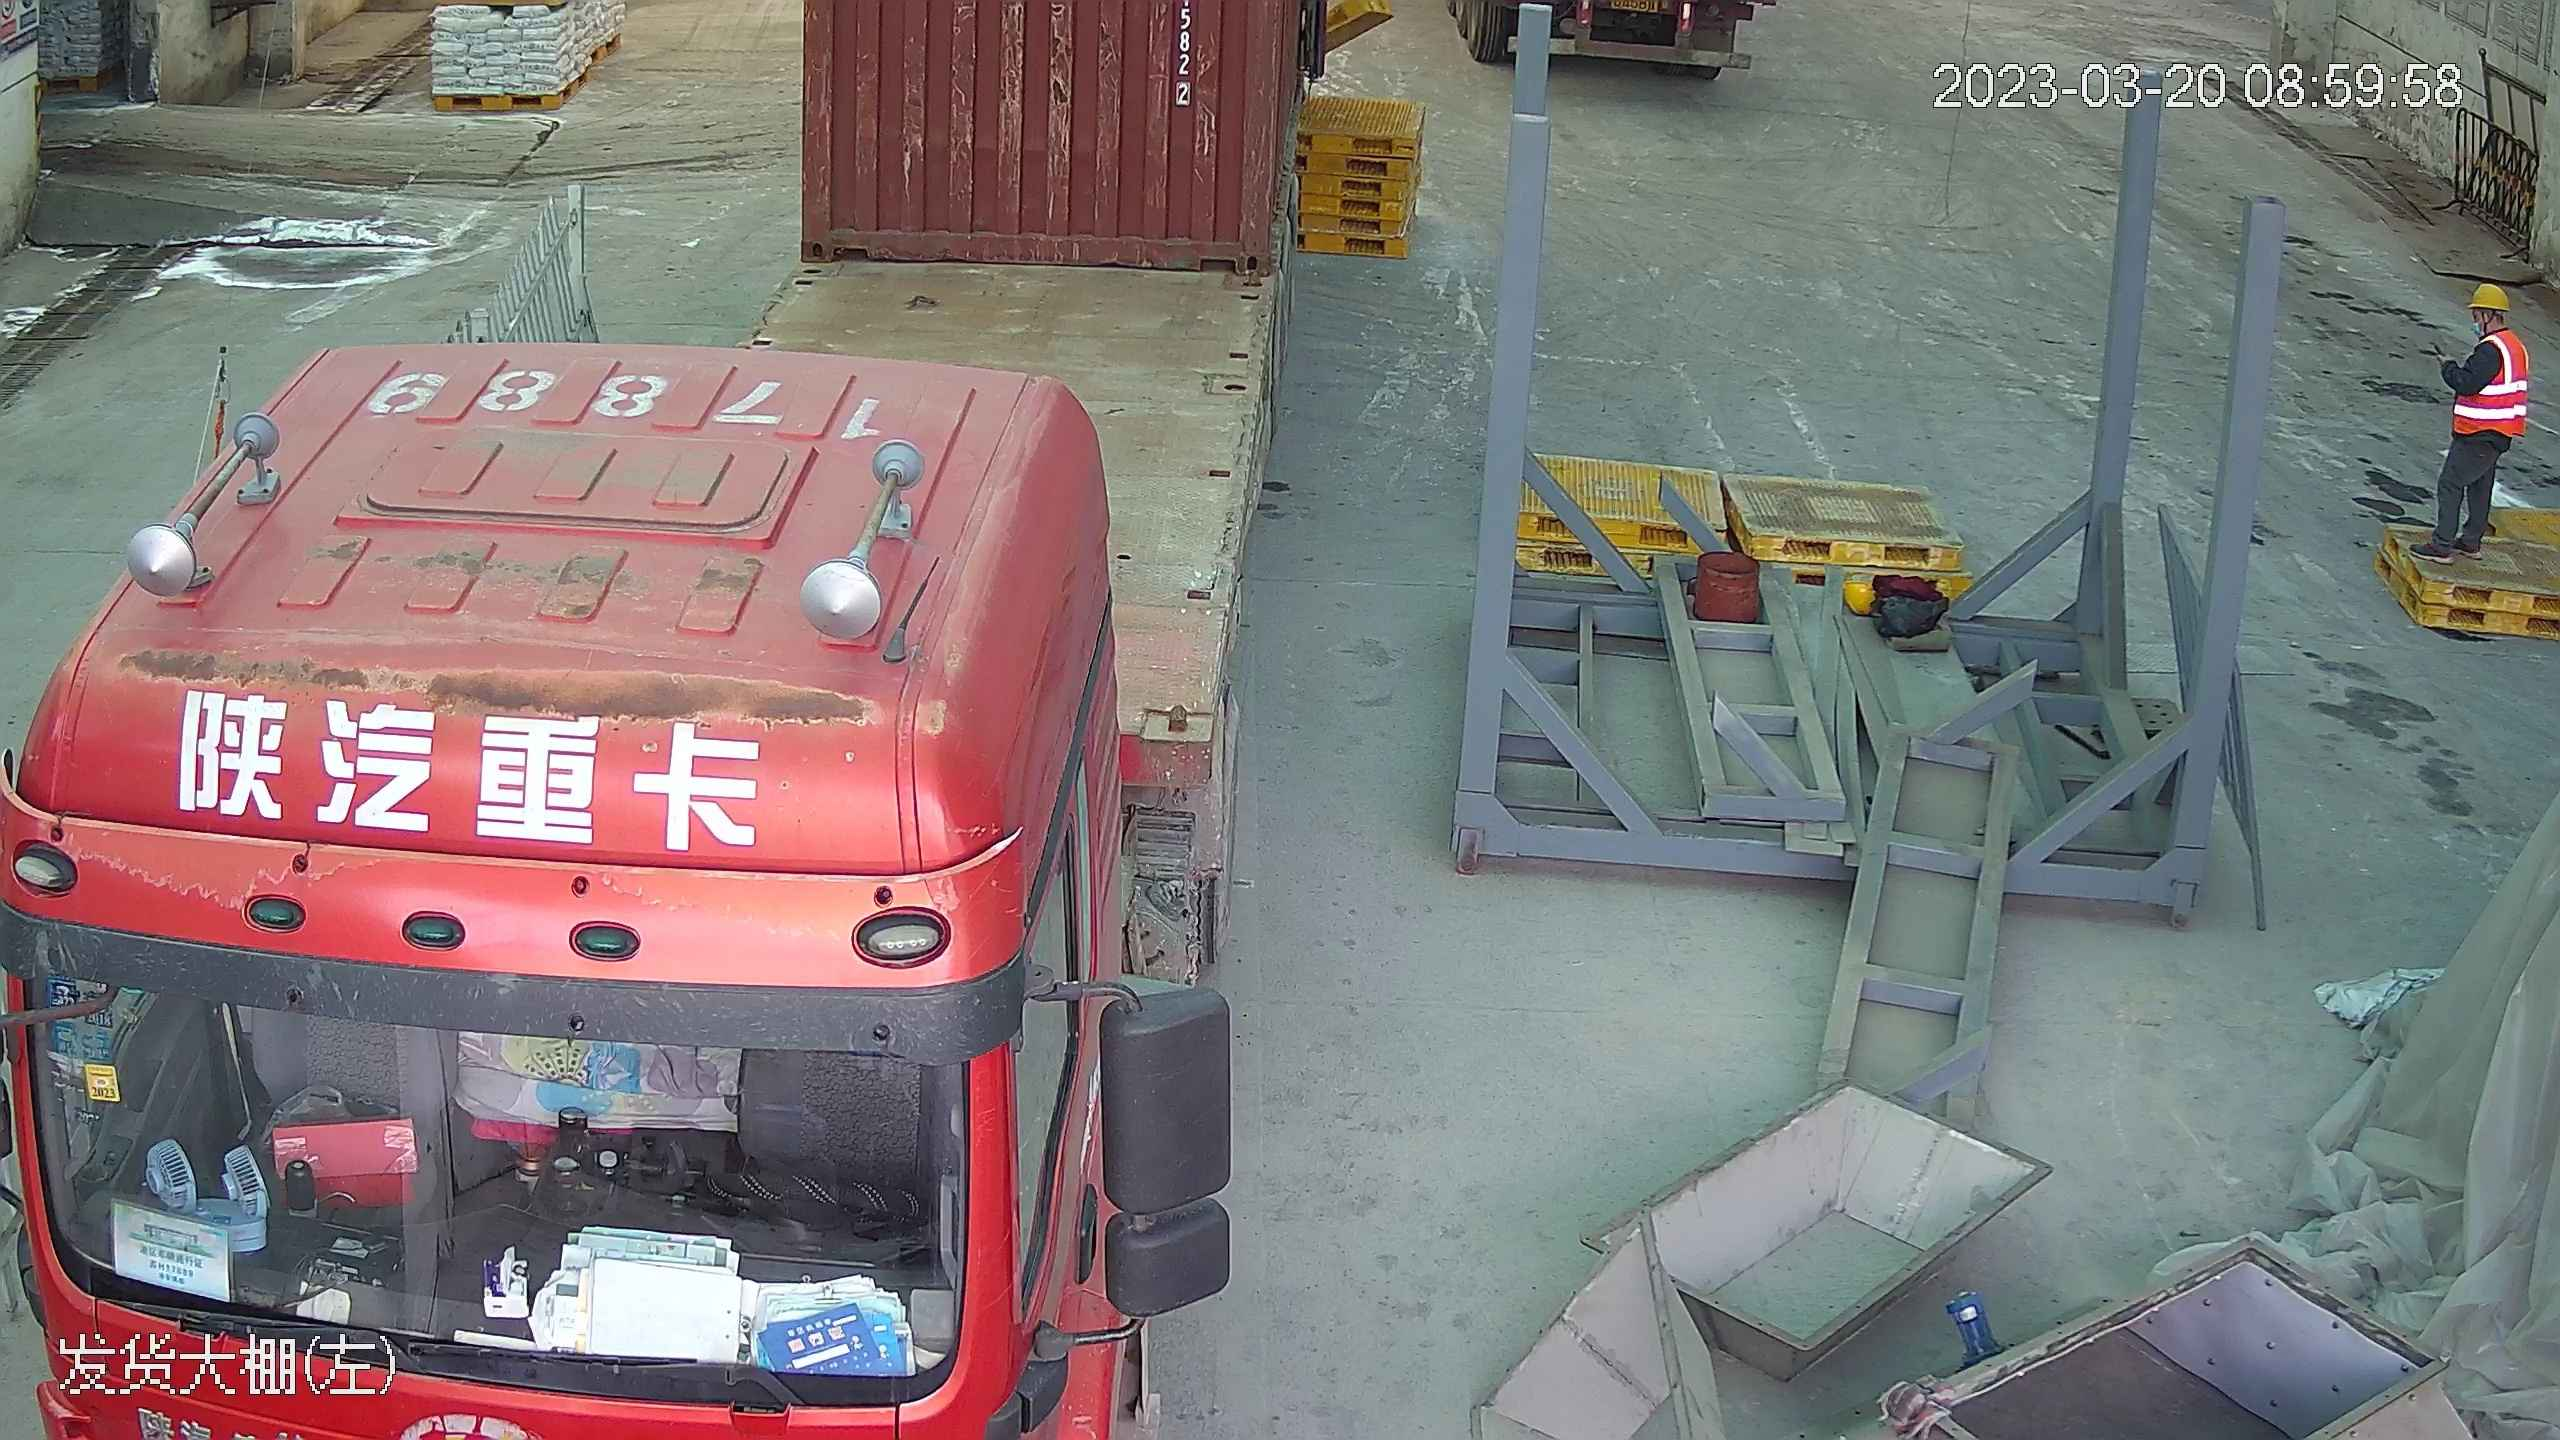head: (2455, 279, 2529, 375)
helmet: (2467, 281, 2512, 311)
people: (2417, 278, 2532, 555)
truck: (9, 1, 1292, 1440)
